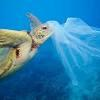Trash: (50, 14, 99, 87)
